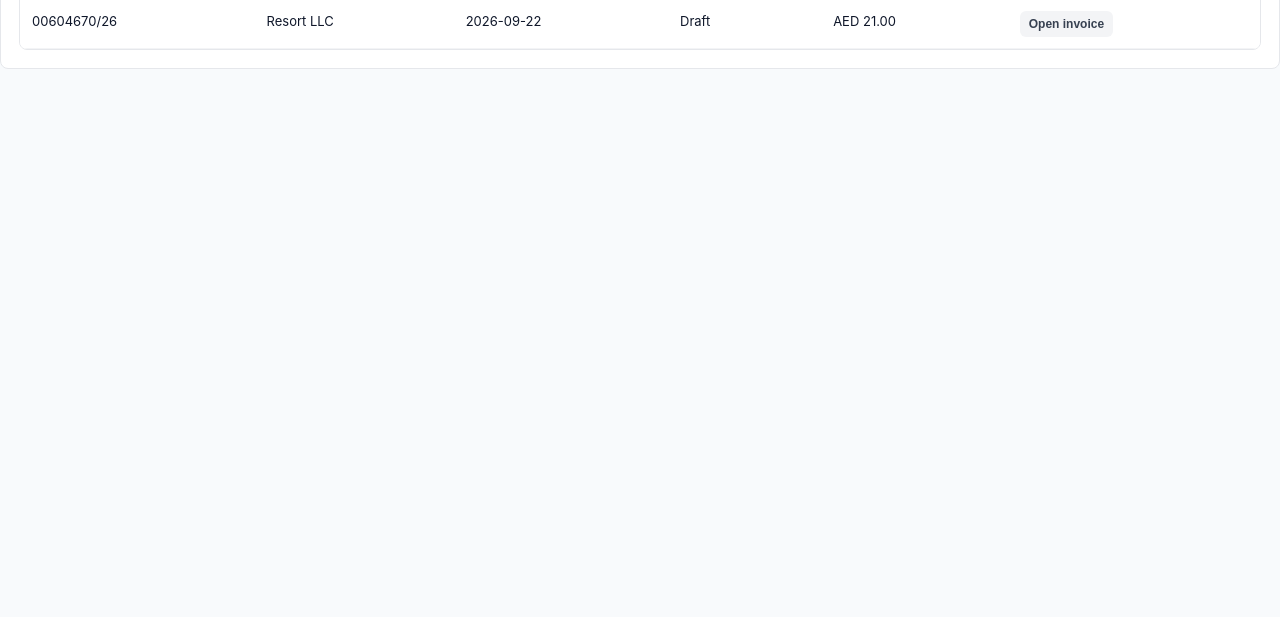
Test: opening scrolls to the invoice and editing resets review until the next save
The image size is (1280, 617).
Click the button "Open invoice".
click(1066, 24)  # box 1020,11 -> 1113,37
(page scrolled)
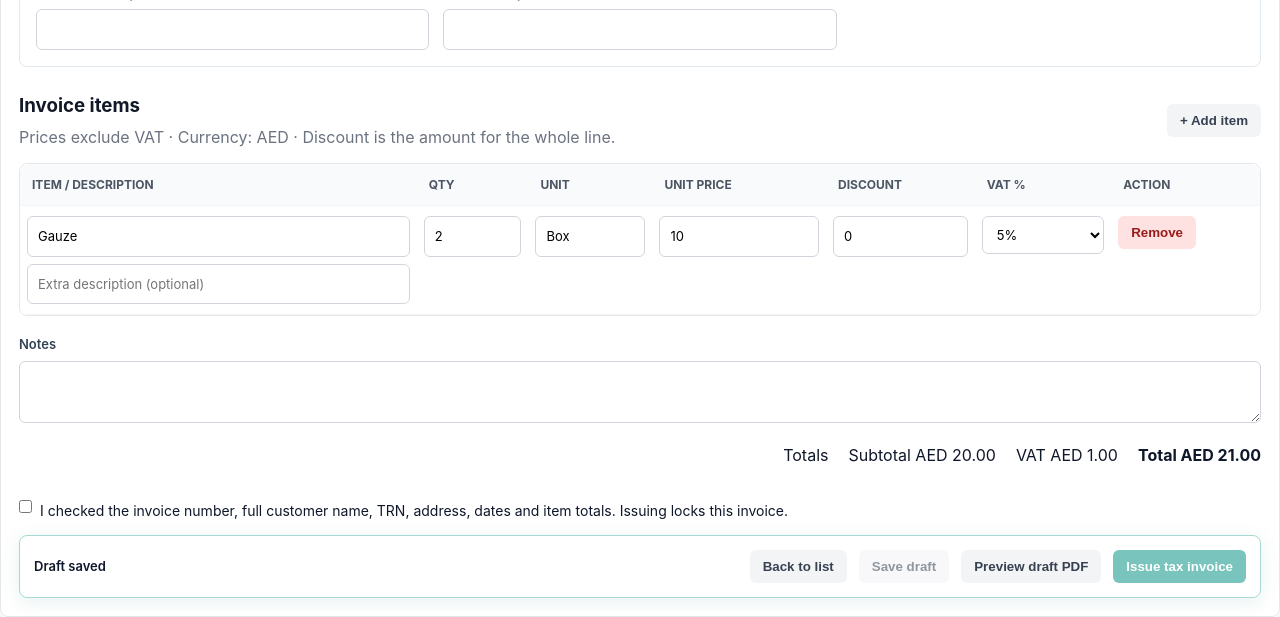
Click the checkbox labelled "I checked the invoice number".
click(26, 507)  # box 19,500 -> 32,514
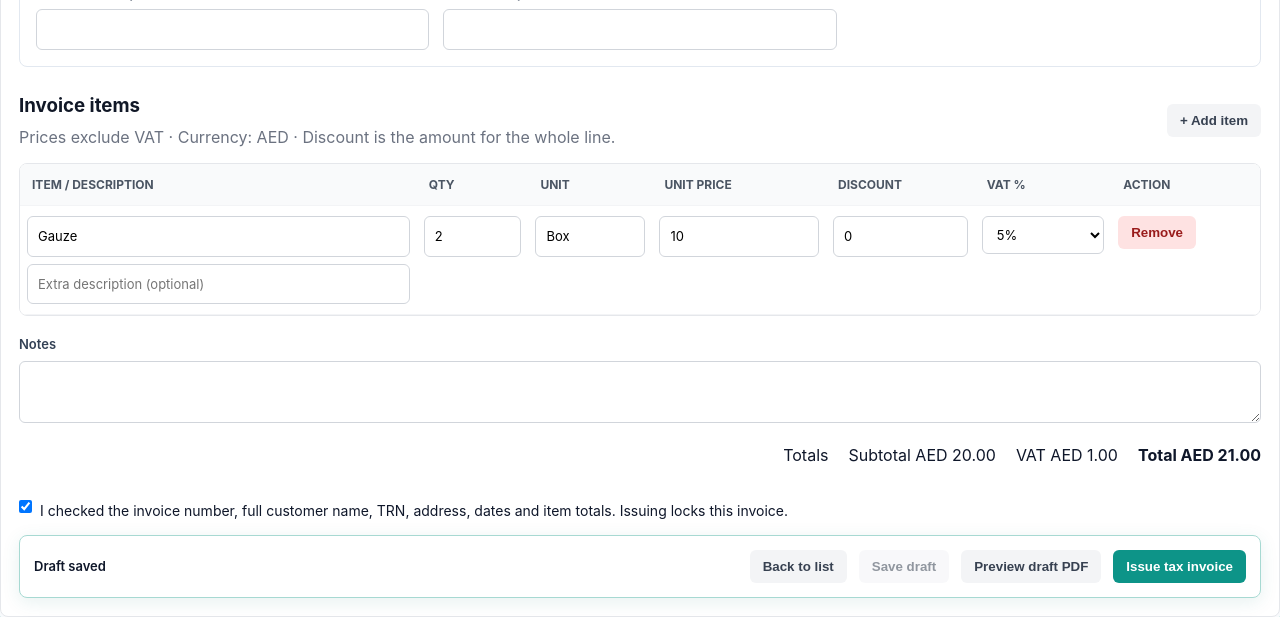
Expected: the button "Issue tax invoice" is enabled, 1113,550 -> 1246,583
Replace the text in the number field named "Unit price 1" with "99" at (739, 236), box 659,216 -> 819,257
(page scrolled)
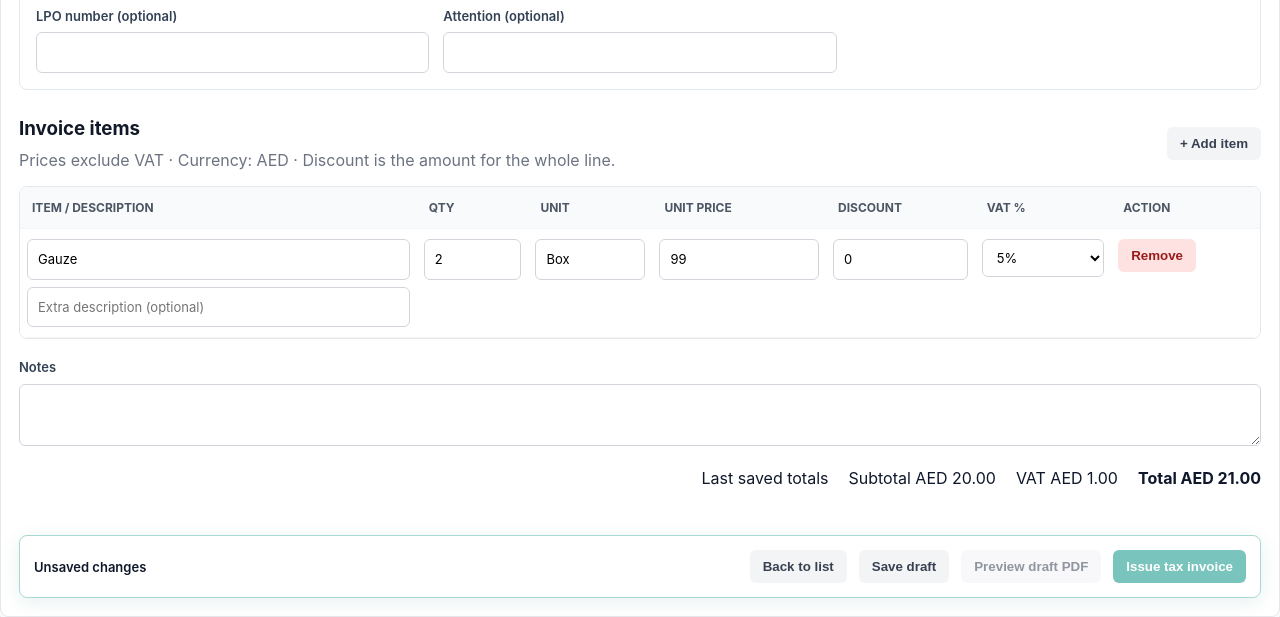
Expected: the button "Issue tax invoice" is disabled, 1113,550 -> 1246,584
Expected: the button "Preview draft PDF" is disabled, 961,550 -> 1101,584
